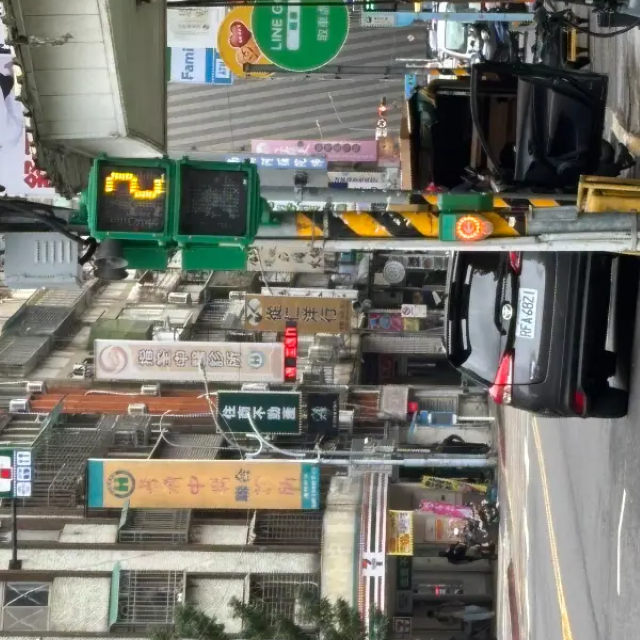green_light: (90, 158, 259, 244)
